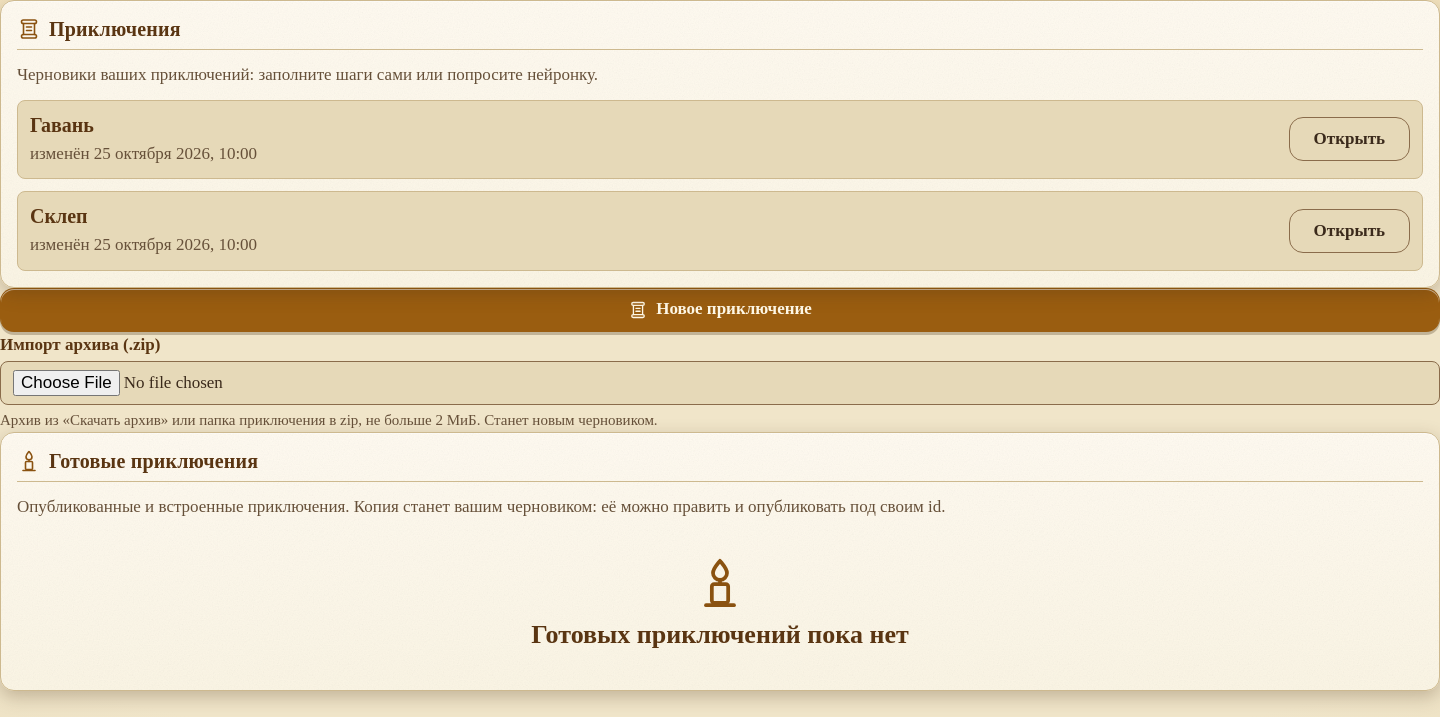
Test case: новый и существующий черновик › «Удалить черновик» в редакторе: после подтверждения — список заново, удалённого в нём нет
Click the button with aria-label "Открыть: Гавань" at (1349, 139), box [1289,117,1410,161]
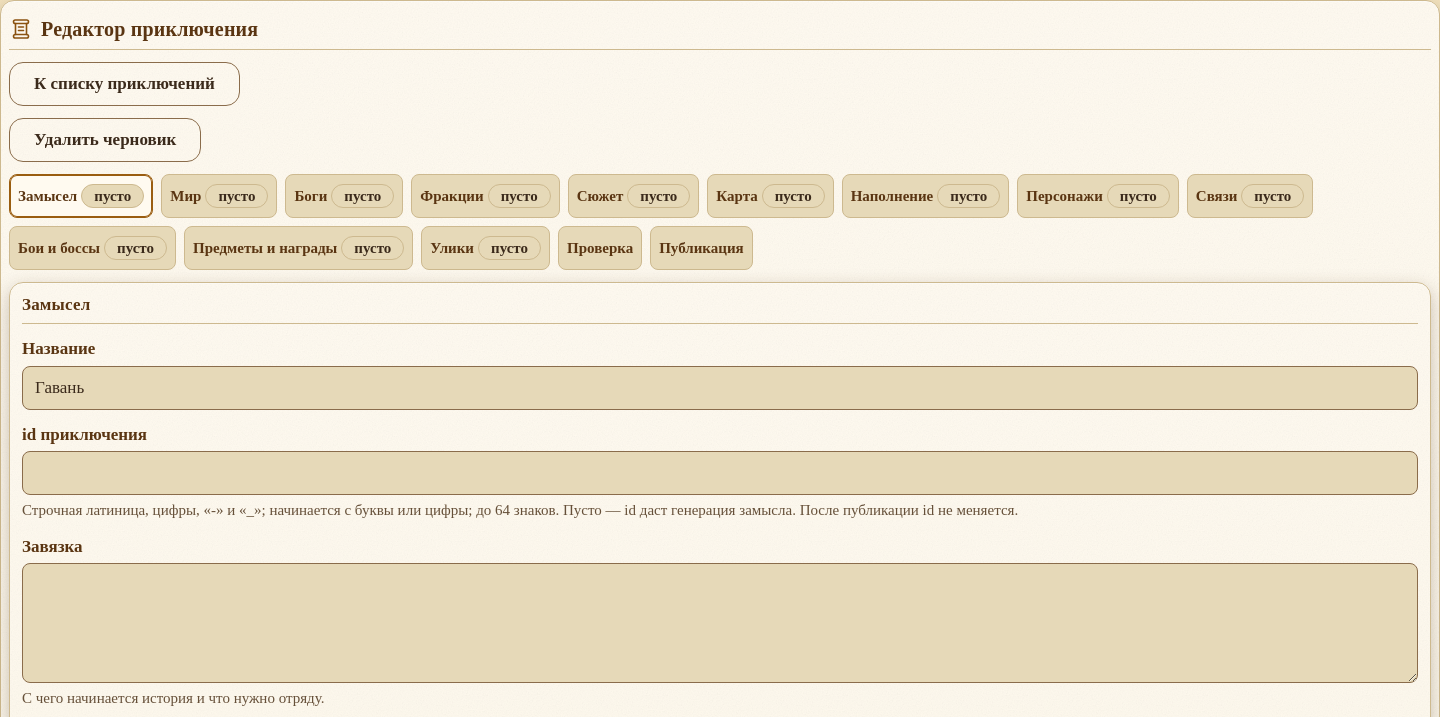
Click the button "Удалить черновик" at (105, 140), box [9,118,201,162]
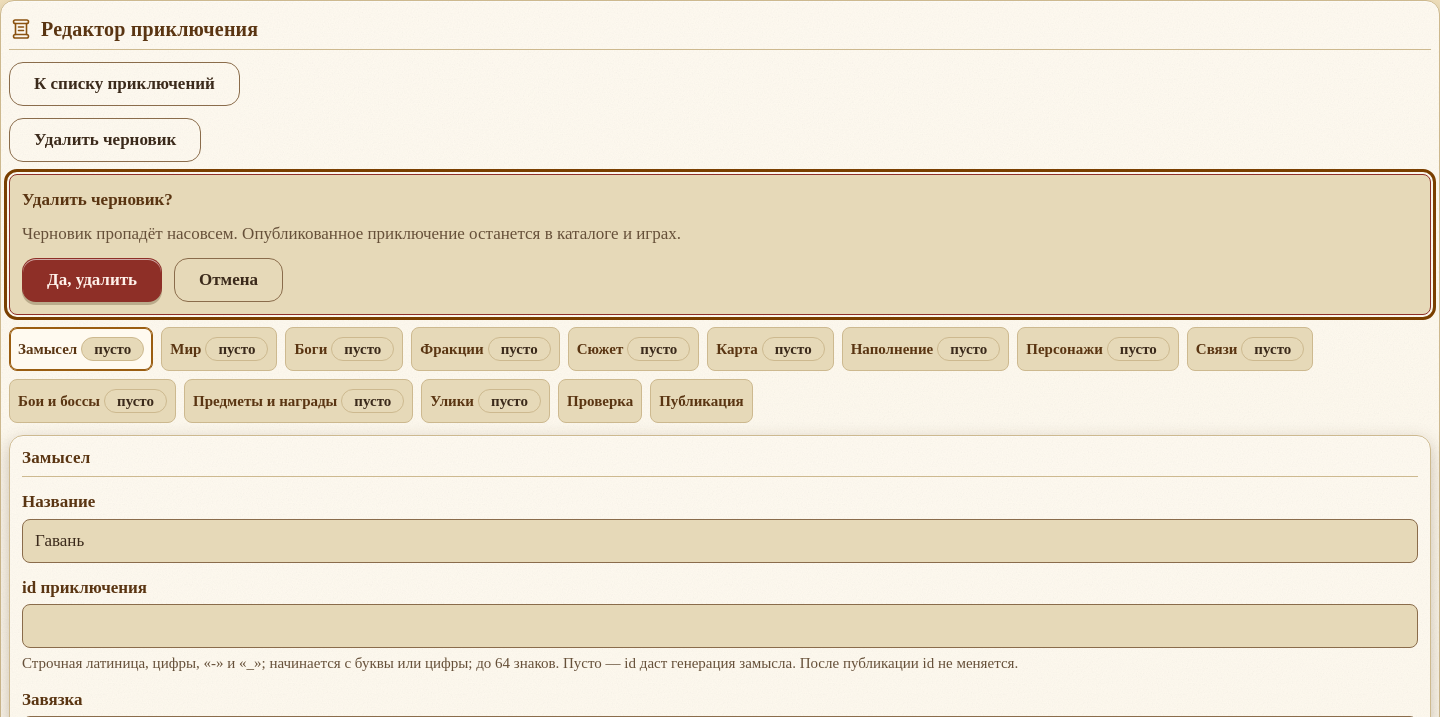
Click the button "Да, удалить" at (92, 280), box [22,258,162,302]
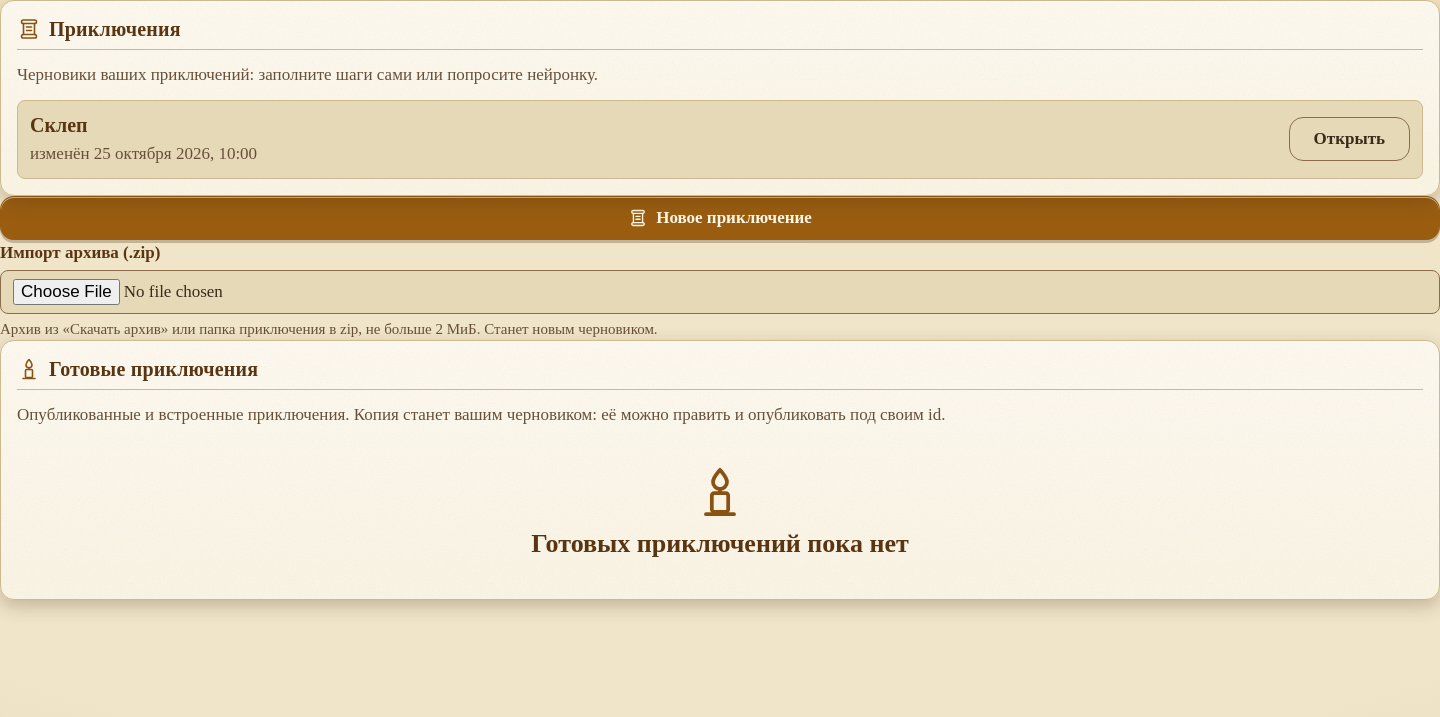
Now the button with aria-label "Открыть: Склеп" is shown, box [1289,117,1410,161]
